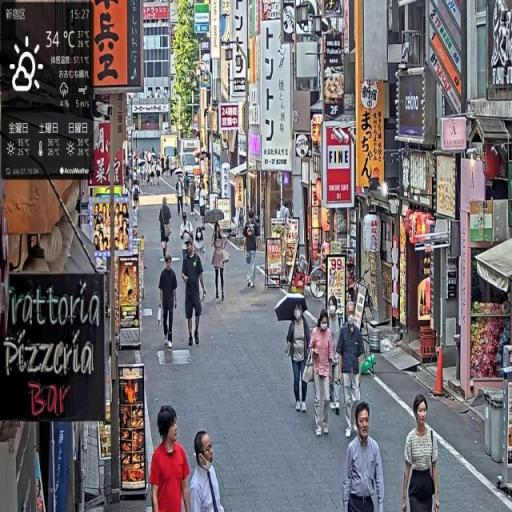person: (346, 398, 387, 512), (402, 394, 441, 512), (150, 404, 192, 512), (336, 306, 366, 437), (308, 309, 336, 439), (187, 428, 226, 512), (285, 303, 312, 418), (183, 236, 208, 349), (159, 255, 180, 352), (212, 221, 232, 304), (245, 211, 260, 291), (159, 195, 174, 263), (199, 183, 208, 233), (176, 175, 185, 218)
